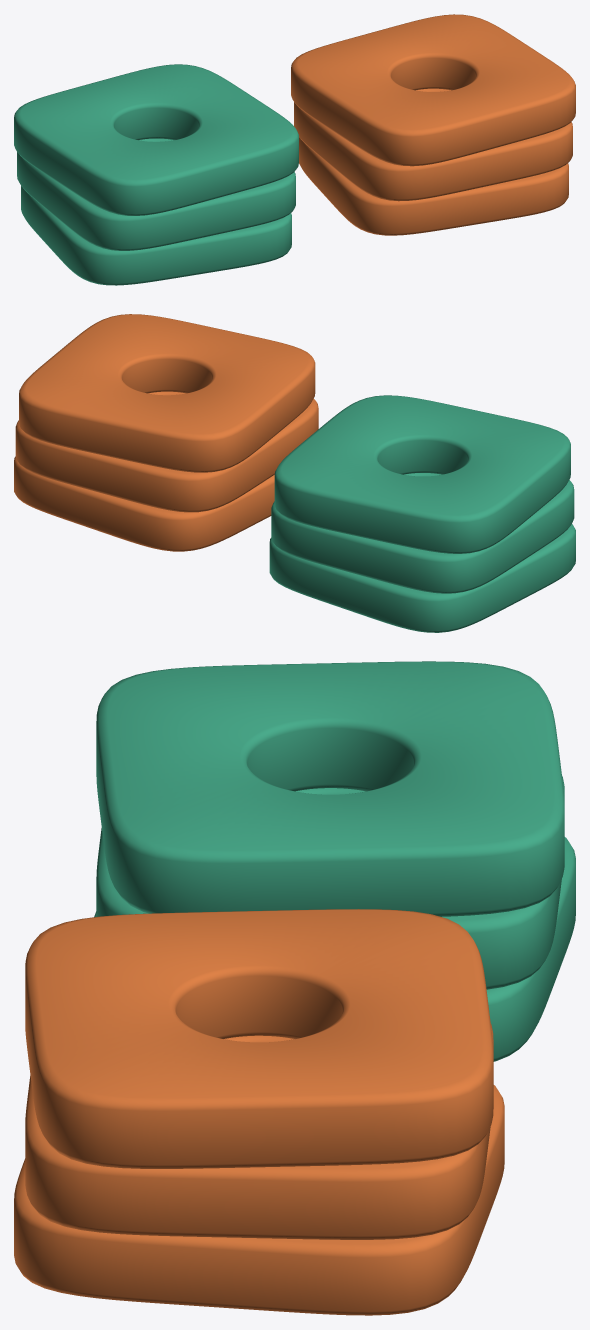
File: Two-Color-Washers.fbx
3 views of the same model, one above another, from view 1: azimuth 30°, elevation 25°; view 2: azimuth 150°, elevation 25°; view 3: azimuth 270°, elevation 25° (orthographic). The views are drawn at different scales.
Parts seen in each view (by area): view 1: Tile (×6); view 2: Tile (×6); view 3: Tile (×6).
Part boxes in pixels (box(x1,y1,x2,y2)): Tile (×6): box(14, 14, 575, 285); Tile (×6): box(14, 314, 575, 632); Tile (×6): box(14, 661, 575, 1315).
Bounding box in the file's own units: 136 × 29.56 × 70.95.
